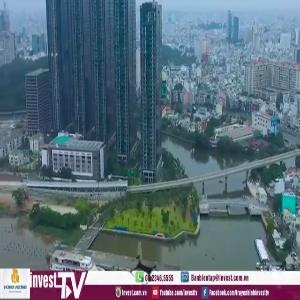drone: (114, 243, 171, 300)
